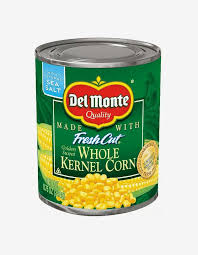can: (31, 35, 162, 218)
